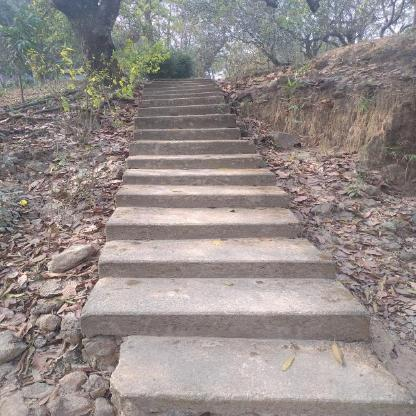stair: (90, 67, 328, 416)
